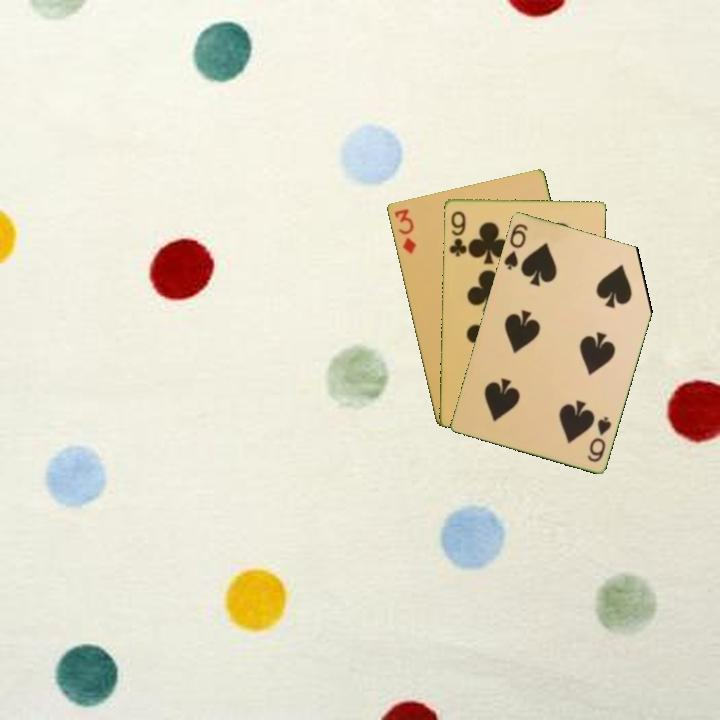3d: (391, 205, 419, 257)
6s: (583, 412, 614, 465), (500, 219, 530, 272)
9c: (445, 207, 469, 259)
